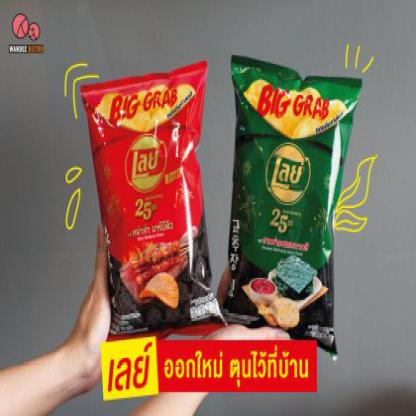potatochip: (81, 60, 227, 364), (218, 50, 358, 359)
